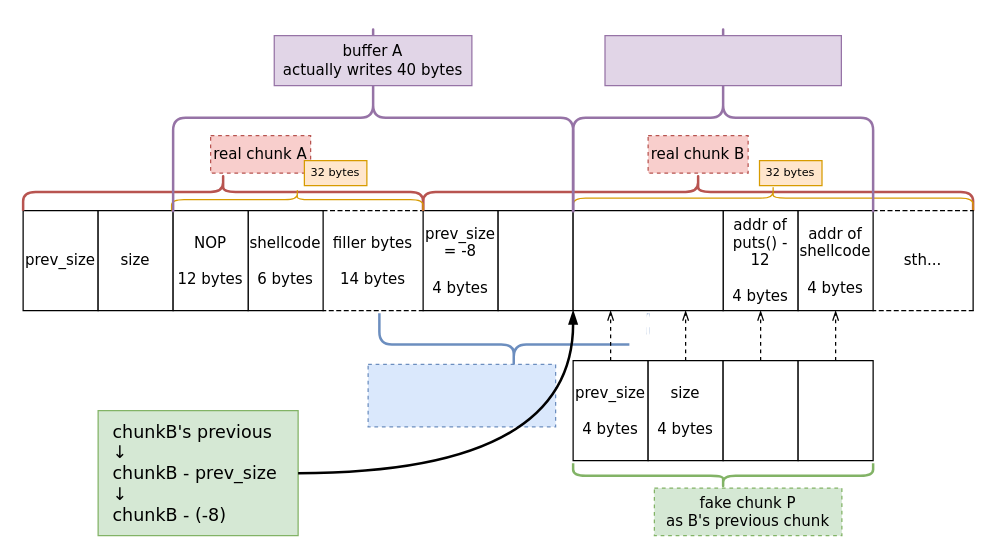
Image size: 996x558. Some labels were removed from this diagram. The shapes that lost their labels are listed below. From the top down, each one's box as (x1, y1, x2, y2) in pixels, then its label:
(604, 34, 841, 86): buffer B only need to write 16 bytes
(497, 209, 573, 311): size = -4 4 bytes
(572, 209, 723, 311): useless 8 bytes fill with deadbeef * 2
(367, 363, 556, 427): fake chunk as B's next chunk but we dont care
(722, 359, 798, 461): fd addr of puts() - 12 4 bytes
(797, 359, 873, 461): bk addr of shellcode 4 bytes
